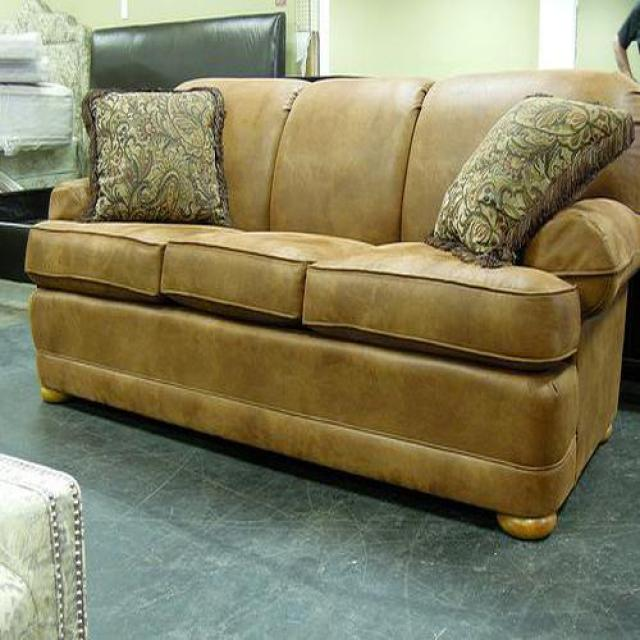sofa: (23, 70, 640, 544)
